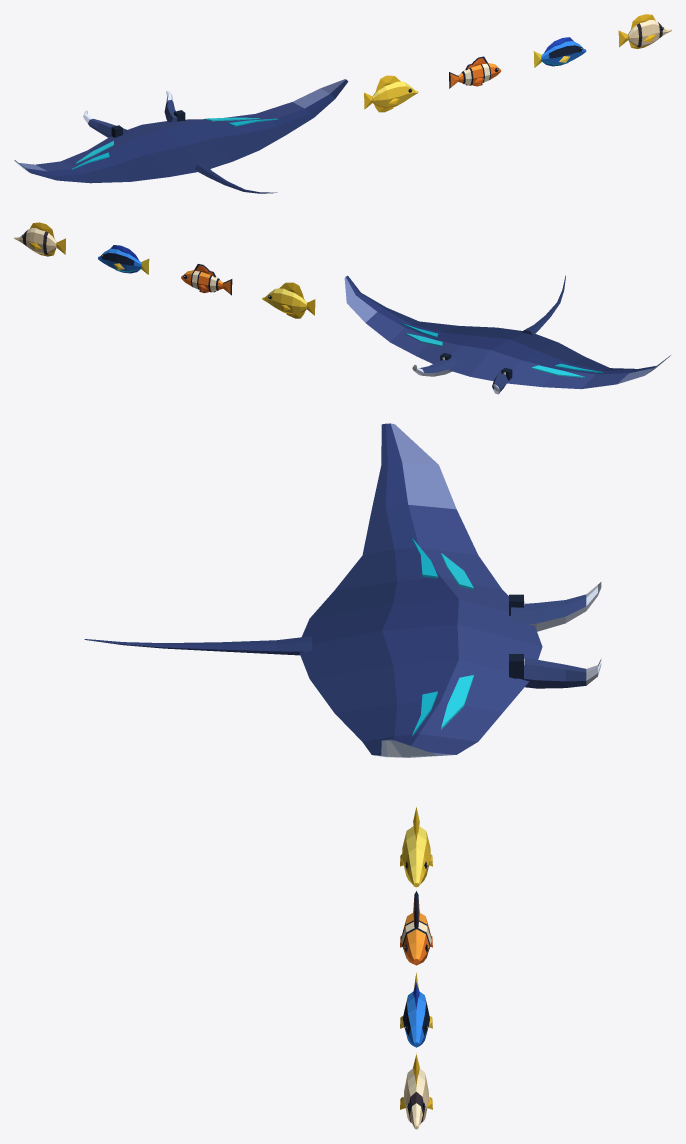
Rendered from sea-life.glb.
3 views of the same model, one above another, from view 1: azimuth 30°, elevation 25°; view 2: azimuth 150°, elevation 25°; view 3: azimuth 270°, elevation 25° (orthographic). The views are drawn at different scales.
Parts seen in each view (by area): view 1: Wings, Hull, Hull.003, Hull.002, Hull.001, Tail.004, Cephalic lobe; view 2: Wings, Hull, Hull.003, Hull.002, Hull.001, Cephalic lobe.001, Tail.004; view 3: Wings, Tail.004, Cephalic lobe, Cephalic lobe.001, Hull, Hull.001, Hull.003, Hull.002.
Part boxes in pixels (bbox=[...]): Wings: bbox=[14, 79, 348, 183]; Hull: bbox=[372, 81, 418, 108]; Hull.003: bbox=[628, 20, 671, 47]; Hull.002: bbox=[541, 41, 586, 65]; Hull.001: bbox=[458, 63, 501, 85]; Tail.004: bbox=[195, 163, 277, 193]; Cephalic lobe: bbox=[83, 110, 128, 137]; Wings: bbox=[344, 275, 670, 389]; Hull: bbox=[262, 288, 306, 314]; Hull.003: bbox=[14, 228, 56, 255]; Hull.002: bbox=[98, 248, 141, 272]; Hull.001: bbox=[181, 270, 222, 292]; Cephalic lobe.001: bbox=[412, 358, 456, 376]; Tail.004: bbox=[522, 275, 565, 335]; Wings: bbox=[299, 423, 542, 757]; Tail.004: bbox=[84, 636, 312, 655]; Cephalic lobe: bbox=[511, 582, 601, 631]; Cephalic lobe.001: bbox=[520, 657, 601, 688]; Hull: bbox=[402, 826, 430, 887]; Hull.001: bbox=[401, 913, 431, 965]; Hull.003: bbox=[404, 1068, 428, 1129]; Hull.002: bbox=[402, 991, 429, 1047].
Bounding box in the file's own units: 54.66 × 3.85 × 18.84.
